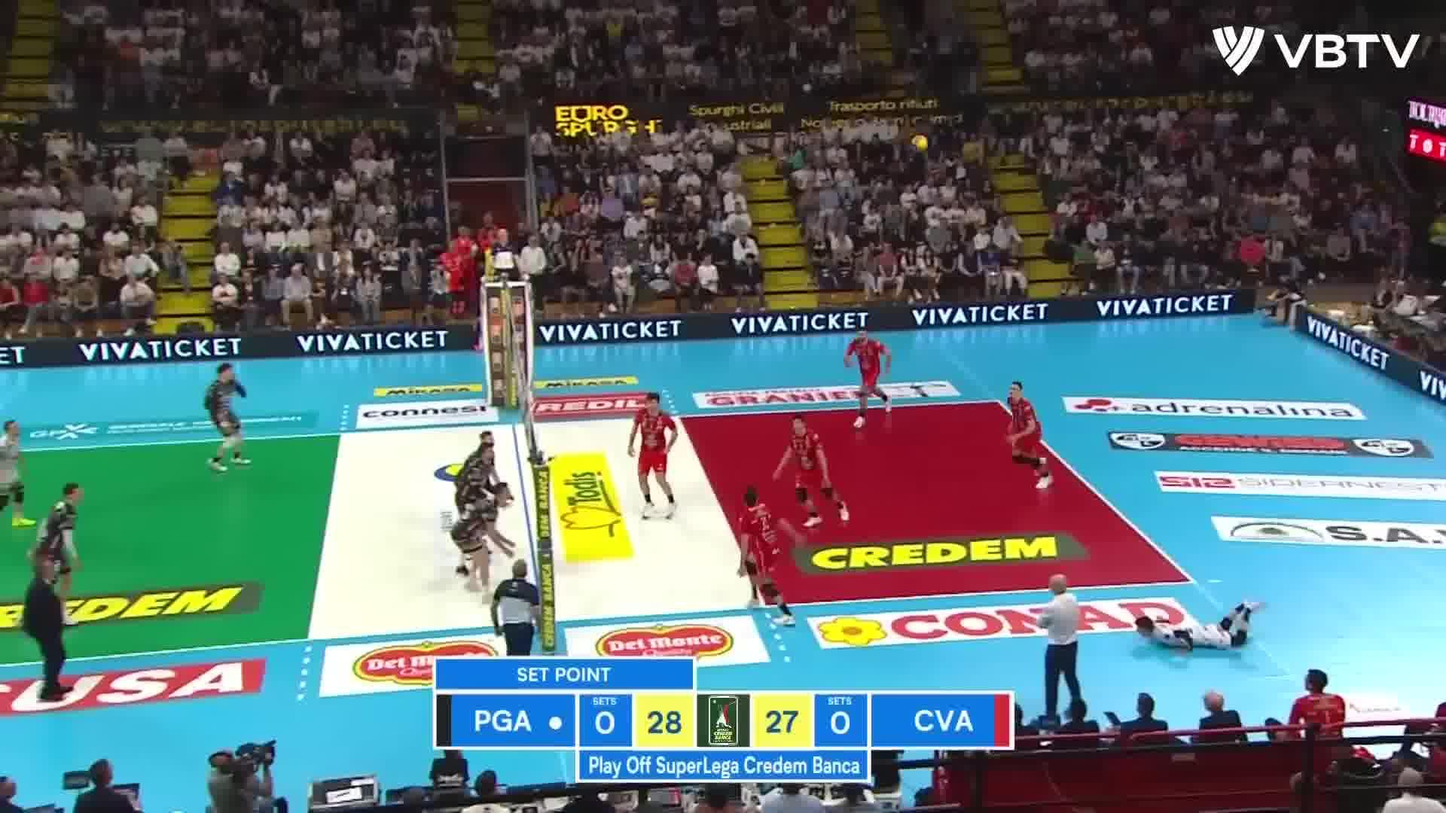balls: (911, 133, 929, 153)
